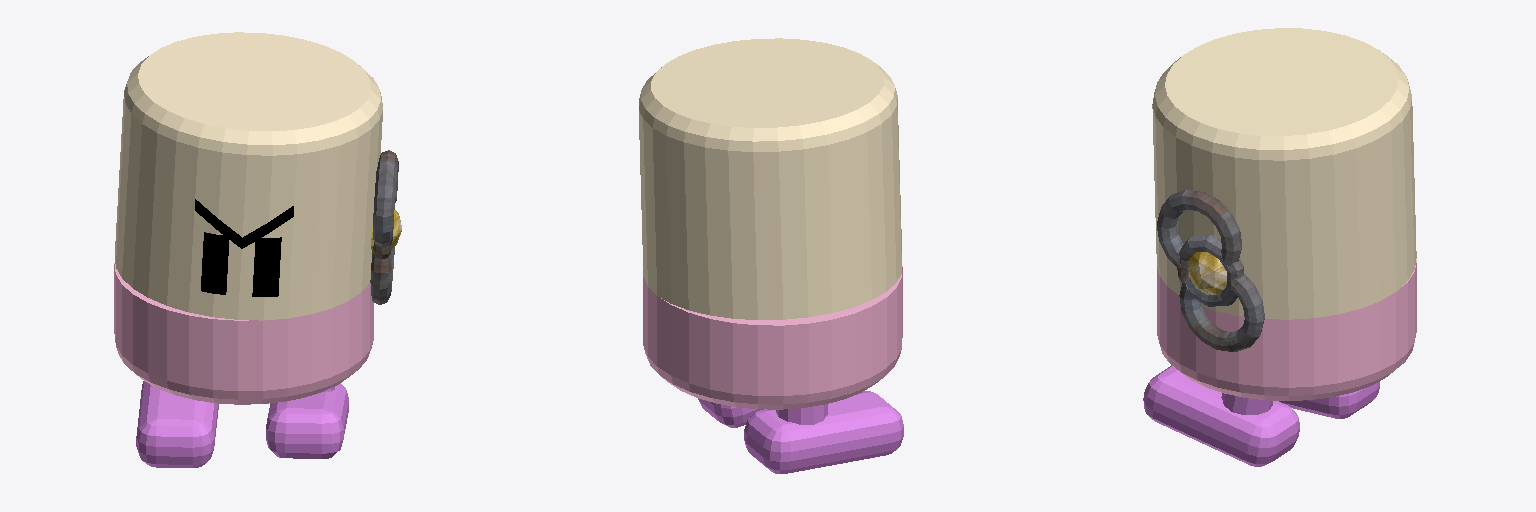
3 views of the same model, side by side, from view 1: azimuth 30°, elevation 25°; view 2: azimuth 150°, elevation 25°; view 3: azimuth 270°, elevation 25° (orthographic).
Visible parts, largest first — view 1: Head, Jaw, RightLeg, LeftLeg, WindupKey; view 2: Head, Jaw, RightLeg, LeftLeg; view 3: Head, Jaw, WindupKey, LeftLeg, RightLeg.
Part boxes in pixels (bbox=[...]): Head: bbox=[115, 32, 382, 320]; Jaw: bbox=[114, 263, 373, 404]; RightLeg: bbox=[136, 381, 218, 467]; LeftLeg: bbox=[266, 383, 348, 458]; WindupKey: bbox=[370, 150, 401, 304]; Head: bbox=[639, 38, 901, 319]; Jaw: bbox=[643, 266, 902, 409]; RightLeg: bbox=[744, 391, 903, 473]; LeftLeg: bbox=[698, 398, 763, 427]; Head: bbox=[1152, 28, 1416, 319]; Jaw: bbox=[1157, 260, 1416, 400]; WindupKey: bbox=[1157, 190, 1264, 351]; LeftLeg: bbox=[1143, 365, 1299, 466]; RightLeg: bbox=[1279, 382, 1379, 418].
Bounding box in the file's own units: 111 × 152 × 105.
Materials: 6 (2 with a texture image).